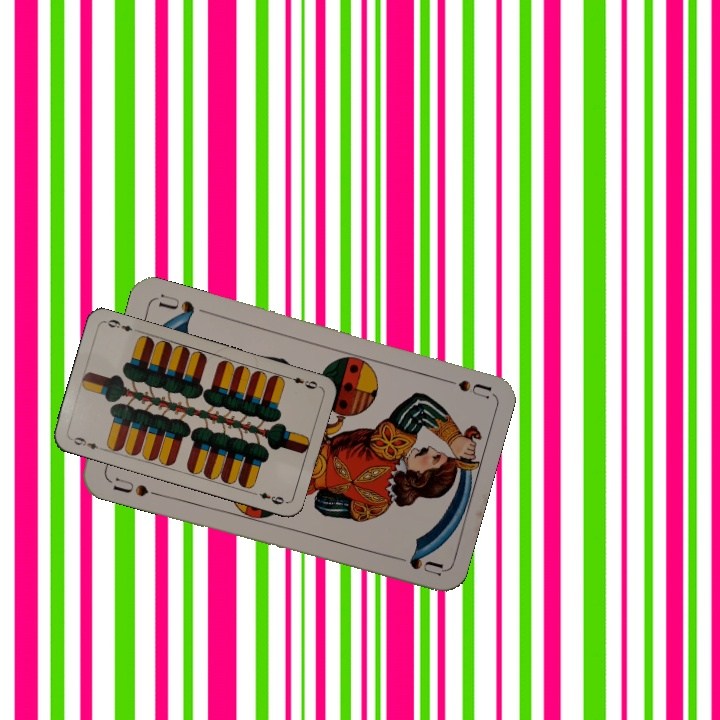E9: (282, 372, 320, 391), (66, 433, 101, 452)
SU: (433, 372, 492, 401), (109, 473, 151, 500)
